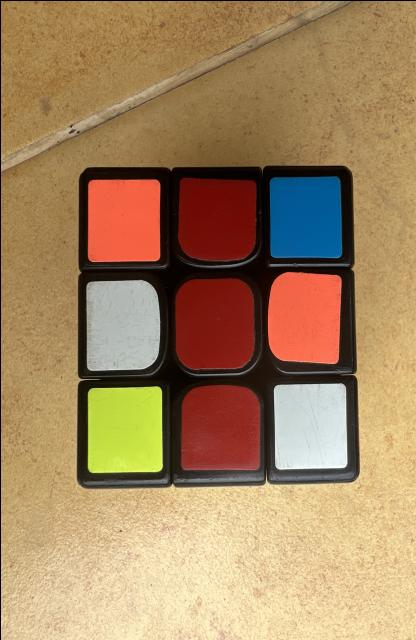Blue: (269, 175, 341, 258)
Orange: (266, 271, 340, 362), (87, 179, 159, 261)
Red: (174, 278, 254, 369), (180, 384, 259, 469), (177, 176, 256, 260)
White: (86, 279, 159, 370), (273, 382, 347, 469)
Yellow: (87, 385, 161, 472)
